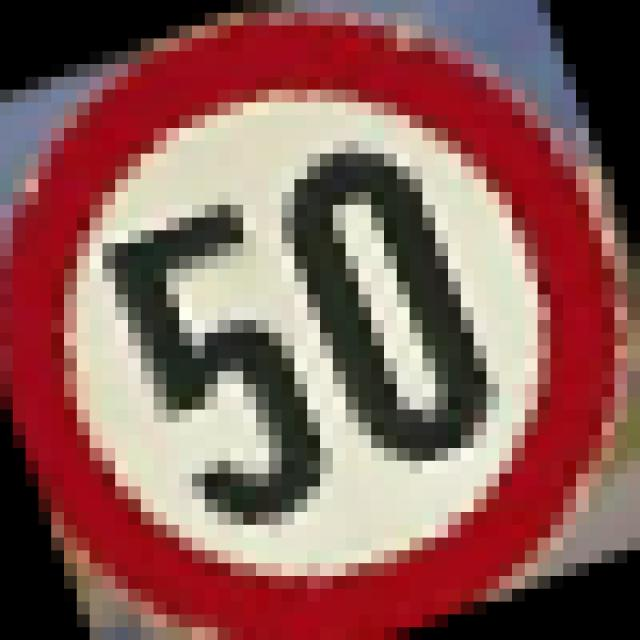Limite-50: (0, 9, 632, 640)
